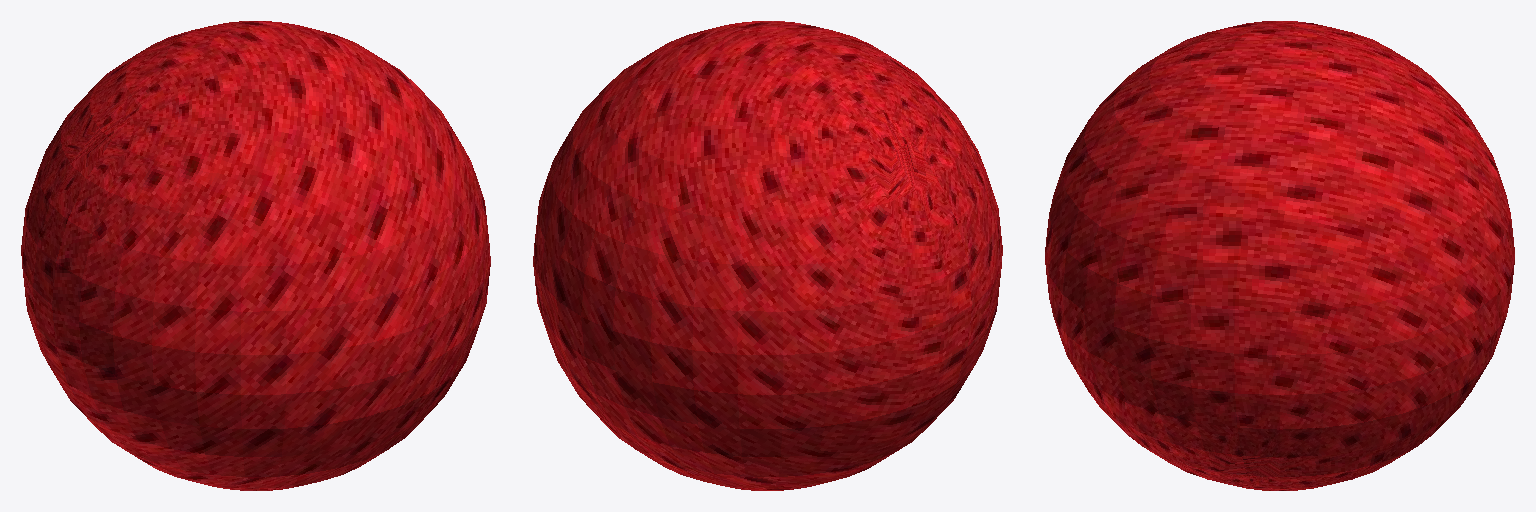
The picture shows the model from 3 angles: view 1: azimuth 30°, elevation 25°; view 2: azimuth 150°, elevation 25°; view 3: azimuth 270°, elevation 25°; orthographic projection.
Visible parts, largest first — view 1: Sphere; view 2: Sphere; view 3: Sphere.
Boxes of the visible parts, box(x1,y1,x2,y2) form: Sphere: box(21, 21, 490, 490); Sphere: box(533, 21, 1002, 490); Sphere: box(1045, 21, 1514, 490).
Size of the model in its own units: 2.8 by 2.8 by 2.8.
Materials: 1 (1 with a texture image).